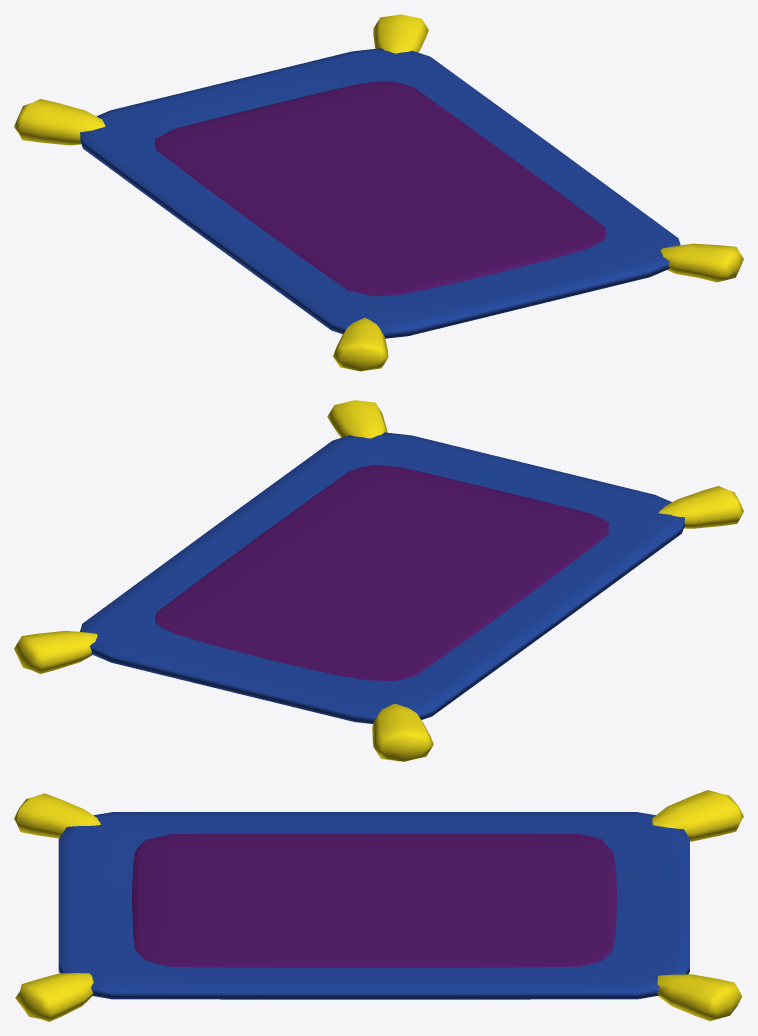
Rendered from Carpet.fbx.
3 renders of one model, top to bottom at view 1: azimuth 30°, elevation 25°; view 2: azimuth 150°, elevation 25°; view 3: azimuth 270°, elevation 25°, orthographic. The views are drawn at different scales.
Visible parts, largest first — view 1: Carpet7, Carpet5; view 2: Carpet7, Carpet5; view 3: Carpet7, Carpet5.
Part boxes in pixels (x1,y1,x2,y2): Carpet7: [80, 48, 680, 338]; Carpet5: [14, 14, 743, 371]; Carpet7: [80, 432, 684, 723]; Carpet5: [14, 400, 743, 761]; Carpet7: [58, 812, 689, 999]; Carpet5: [14, 790, 743, 1021].
Bounding box in the file's own units: 6.86 × 0.5059 × 9.93.
